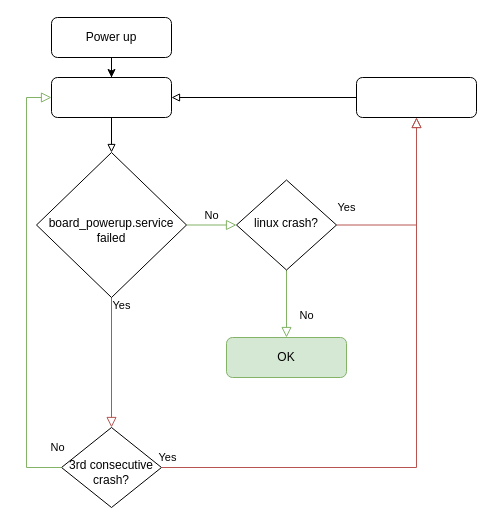
Some shapes in this 494 by 525 pixel diagram are drawn without their labels. Each missing label, with the box of its shape:
system reset: (356, 76, 476, 118)
systemctl start board_powerup: (50, 76, 172, 118)
